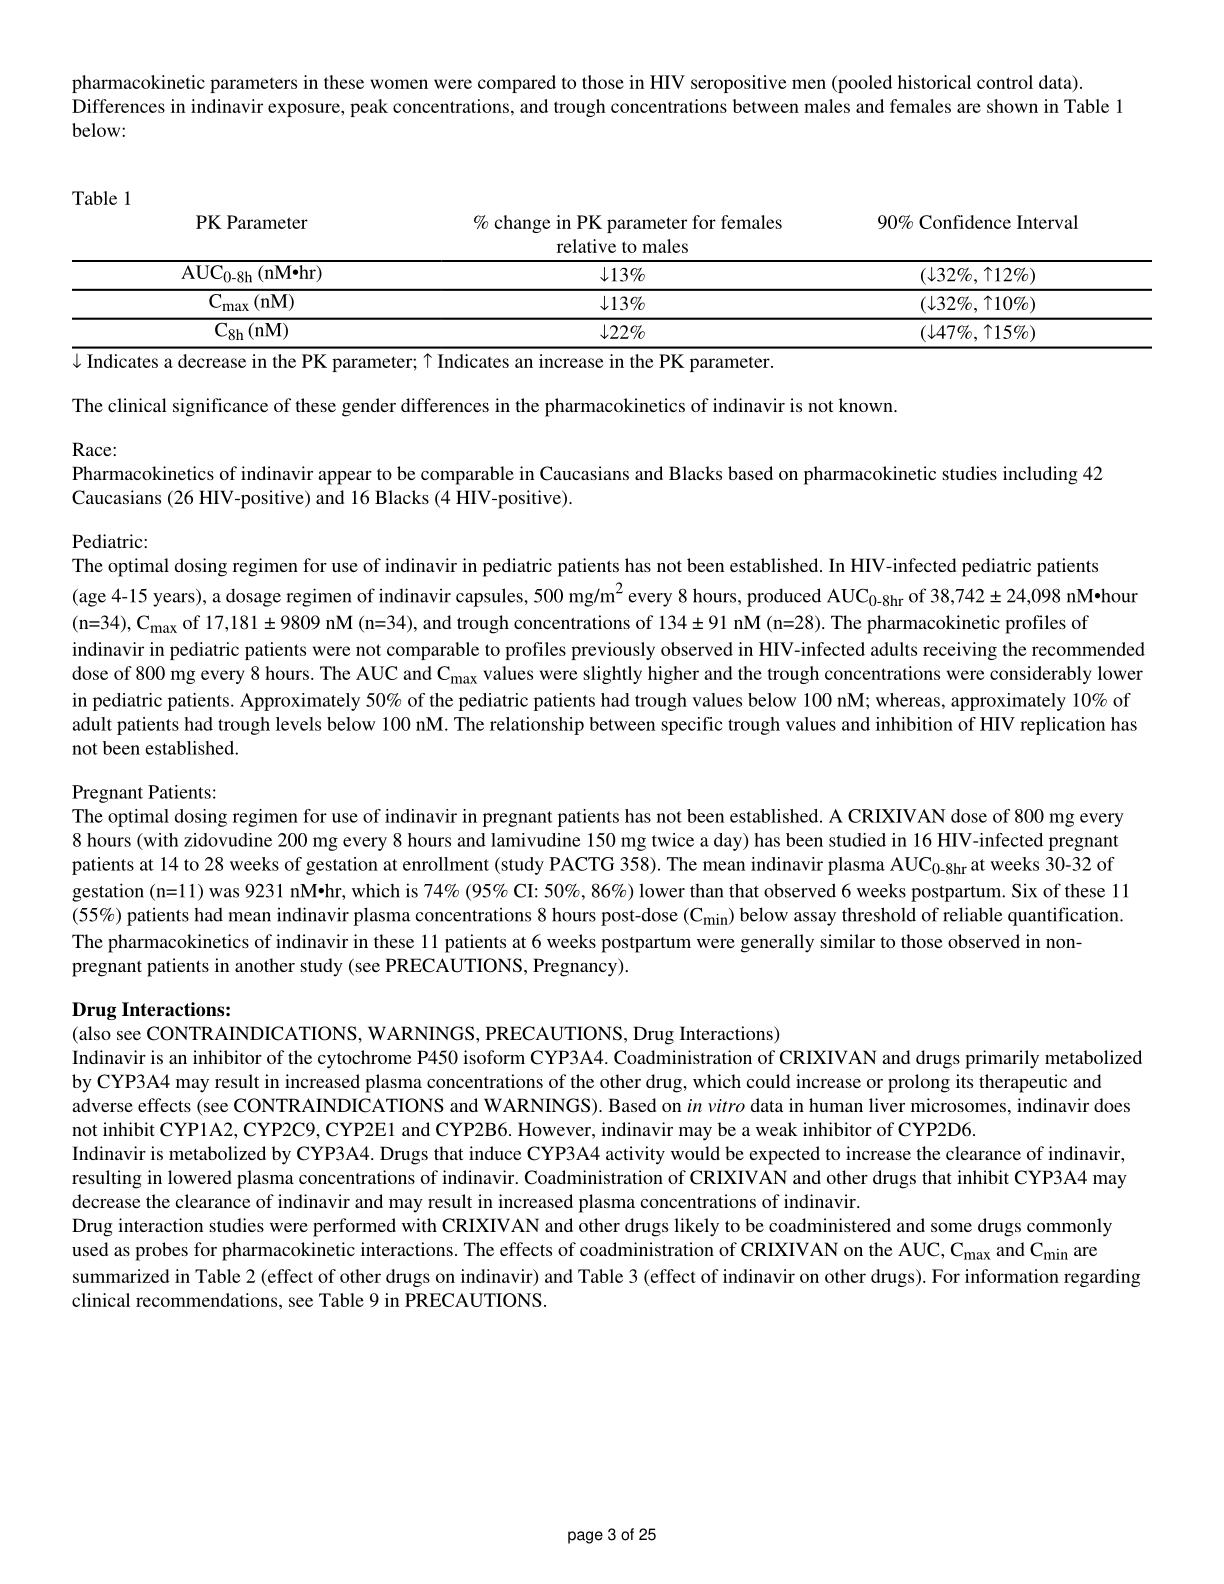partial_lined: (69, 208, 1156, 352)
